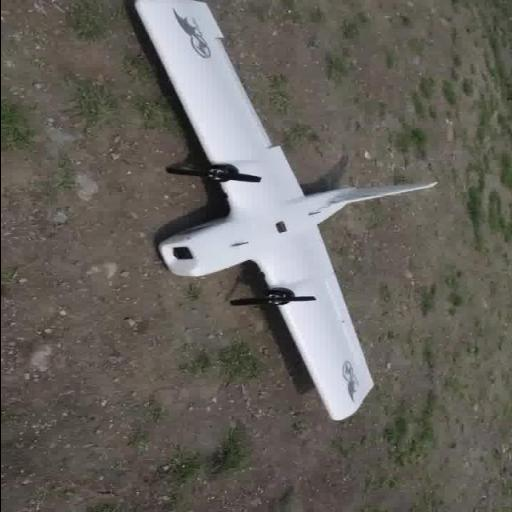uav: (128, 0, 440, 424)
